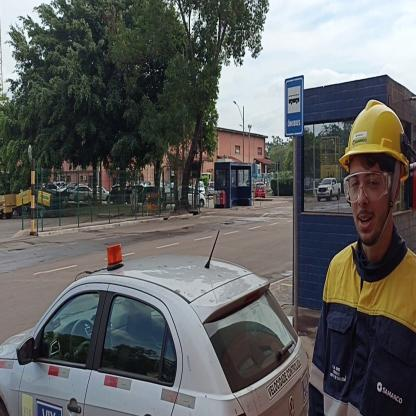C_eletrica: (318, 250, 416, 415)
Capacete: (340, 96, 414, 164)
